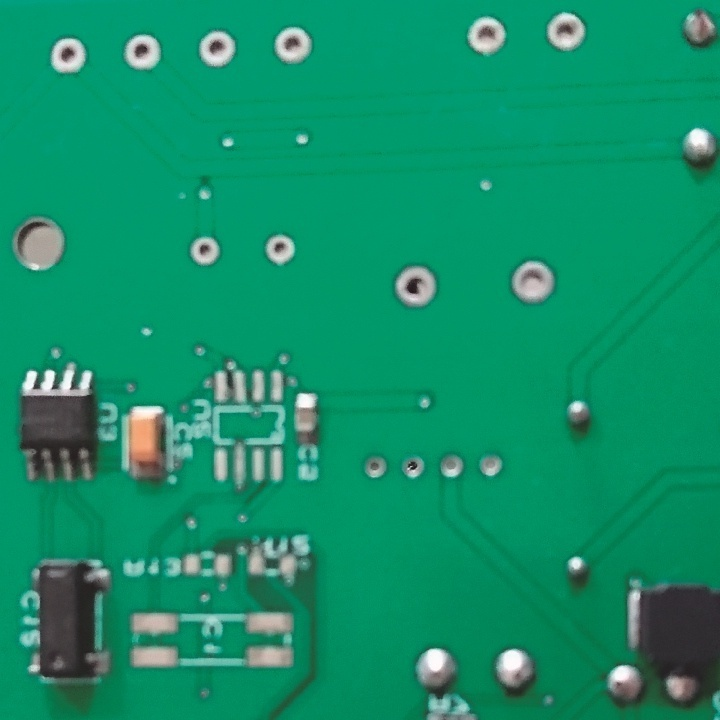F: (507, 257, 556, 305), (461, 13, 510, 59), (539, 11, 587, 55), (390, 263, 434, 306), (196, 27, 241, 69), (270, 23, 317, 63), (47, 35, 89, 78), (122, 30, 164, 72), (261, 230, 296, 270), (473, 447, 508, 485), (187, 235, 223, 268), (436, 449, 465, 483), (399, 449, 427, 484), (361, 451, 387, 482)
